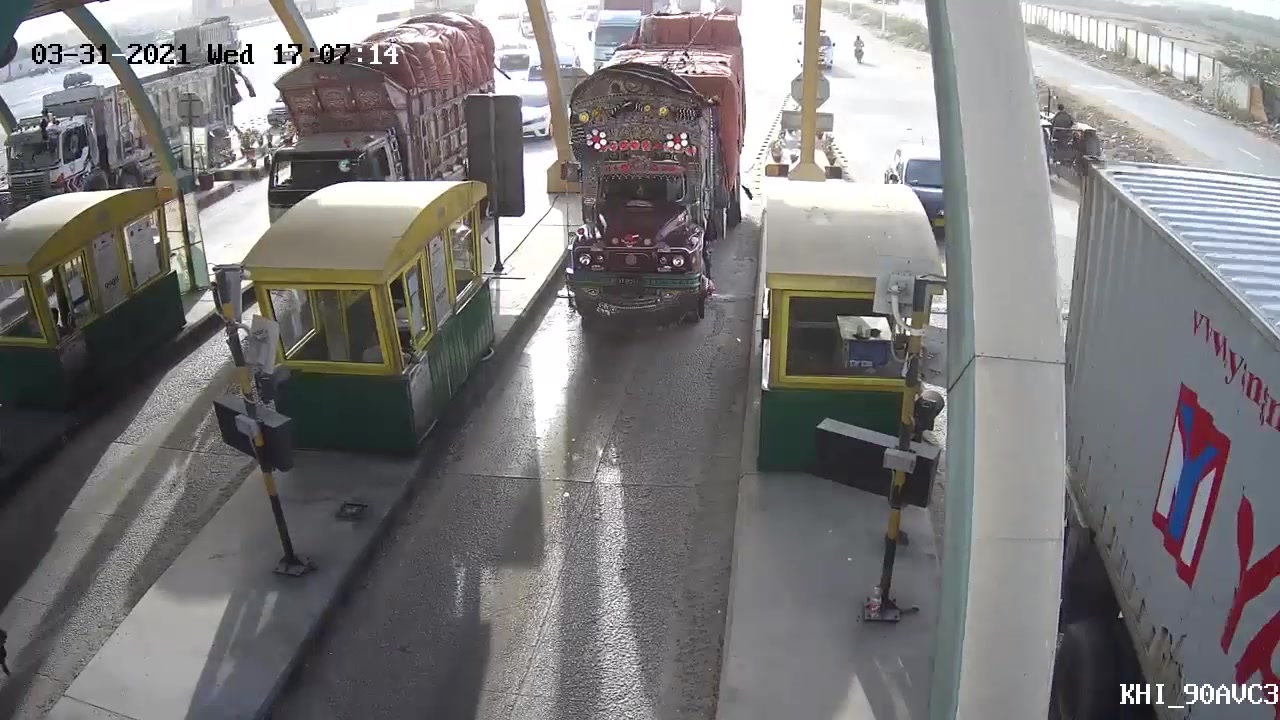F5: (540, 69, 735, 343)
